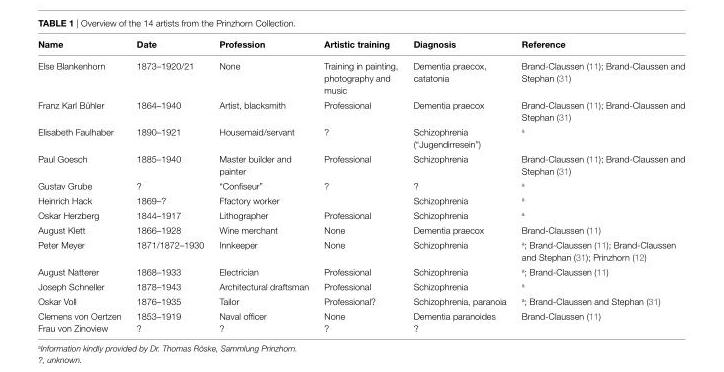table: (37, 37, 684, 332)
table column: (513, 37, 684, 332), (405, 37, 513, 332), (210, 37, 315, 332), (37, 37, 128, 332), (315, 37, 405, 332), (128, 37, 210, 332)
table column header: (37, 37, 684, 54)
table row: (37, 54, 684, 96), (37, 96, 684, 123), (37, 123, 684, 150), (37, 150, 684, 177), (37, 236, 684, 263), (37, 37, 684, 54), (37, 177, 684, 192), (37, 192, 684, 207), (37, 221, 684, 236), (37, 263, 684, 278), (37, 278, 684, 293), (37, 207, 684, 221), (37, 293, 684, 307), (37, 307, 684, 321), (37, 321, 684, 332)
